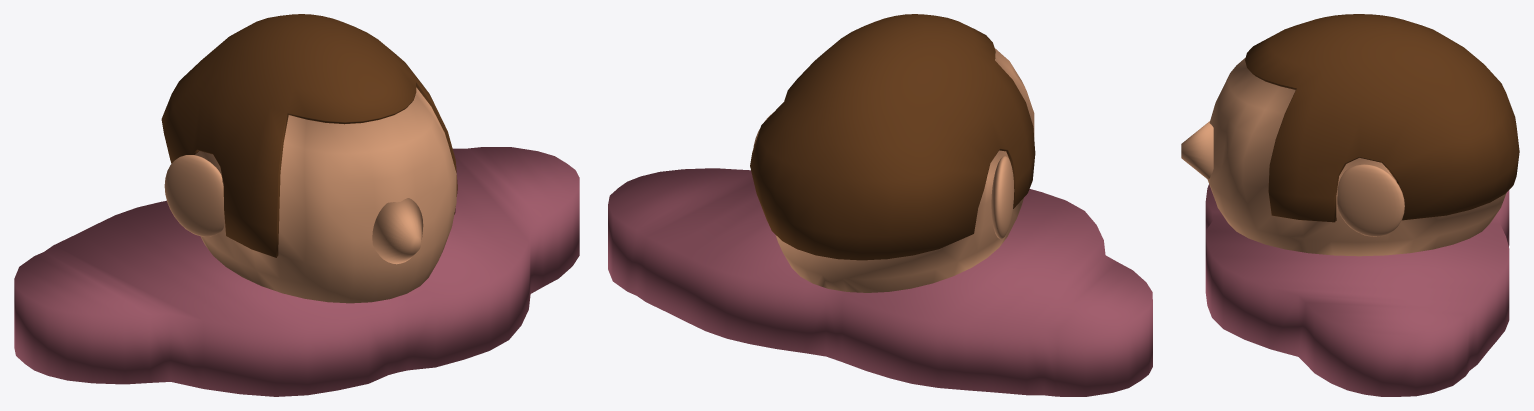
Rendered from Glavni_lik (1).fbx.
3 views of the same model, side by side, from view 1: azimuth 30°, elevation 25°; view 2: azimuth 150°, elevation 25°; view 3: azimuth 270°, elevation 25° (orthographic). The views are drawn at different scales.
Visible parts, largest first — view 1: Glavni_lik; view 2: Glavni_lik; view 3: Glavni_lik.
Part boxes in pixels (<box>): Glavni_lik: <box>14,14,579,396</box>; Glavni_lik: <box>608,14,1152,396</box>; Glavni_lik: <box>1181,14,1519,396</box>.
Bounding box in the file's own units: 50 × 25 × 30.
